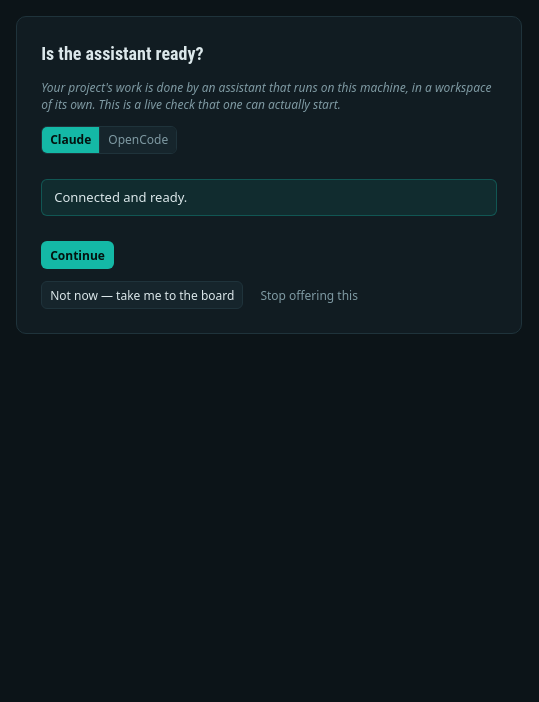
Test: the backend step › opens the way on when the check comes back clean, and writes the file WHOLE
This screenshot has width=539, height=702.
Click the button "Continue" at (78, 255), box top-left (41, 241), bottom-right (114, 269)
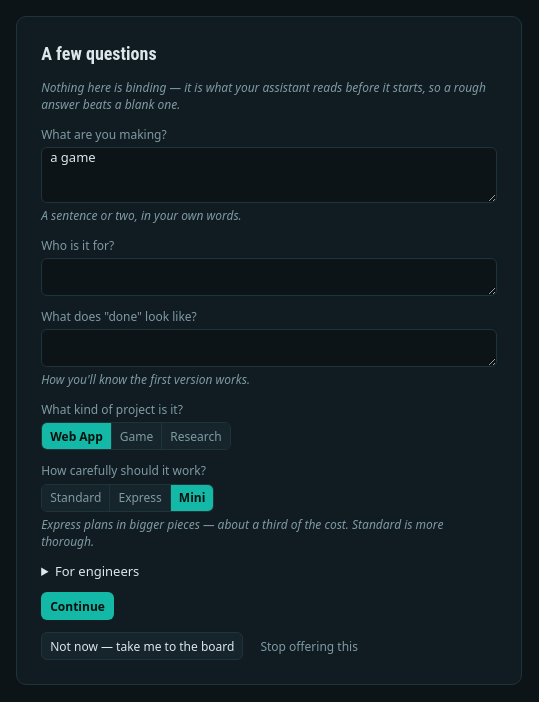
Now the heading "A few questions" is shown, box top-left (41, 43), bottom-right (157, 64)
